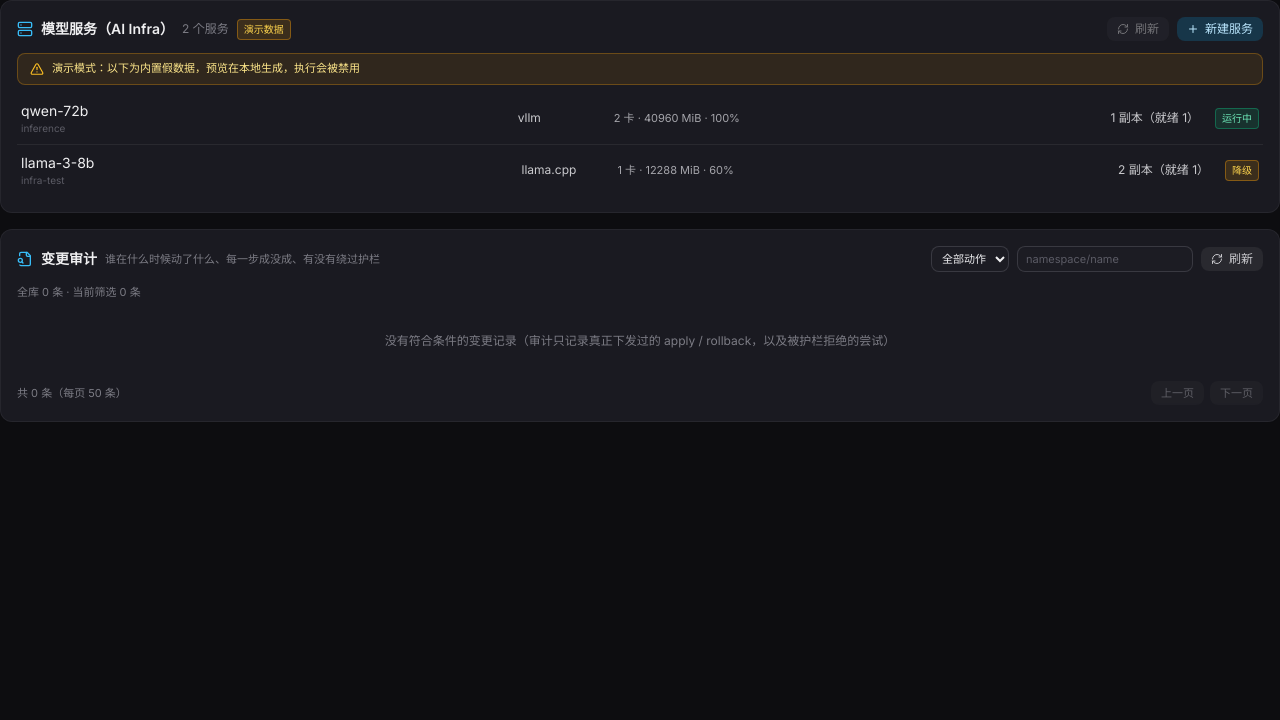
InfraPanel 演示模式 › demo prop：用内置假数据、不发任何请求、执行按钮禁用并说明原因
Check: the text "演示数据" is shown, box 237,18 -> 291,40
Click the button with test id "infra-service-row" that starts with "qwen-72b" at (640, 118), box 17,93 -> 1263,144
(page scrolled)
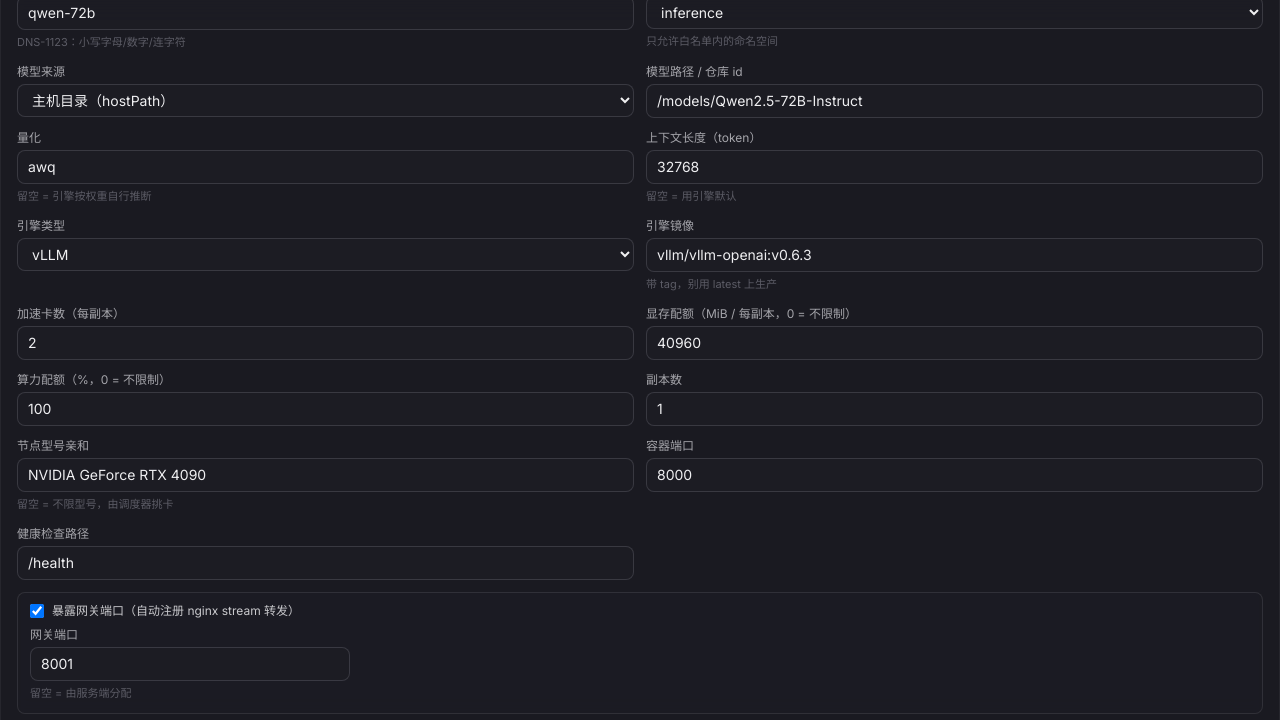
Submit the form
(page scrolled)
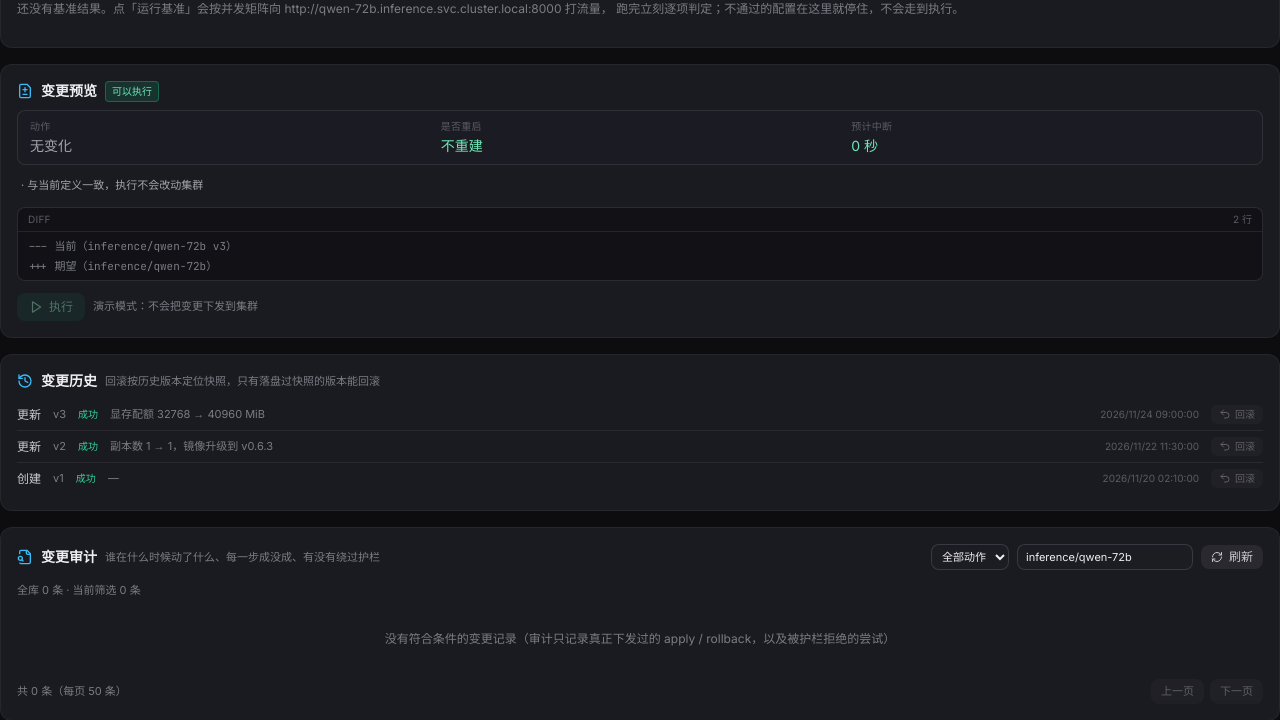
Check: the text "--- 当前（inference/qwen-72b v3）" is shown, box 28,238 -> 237,252
